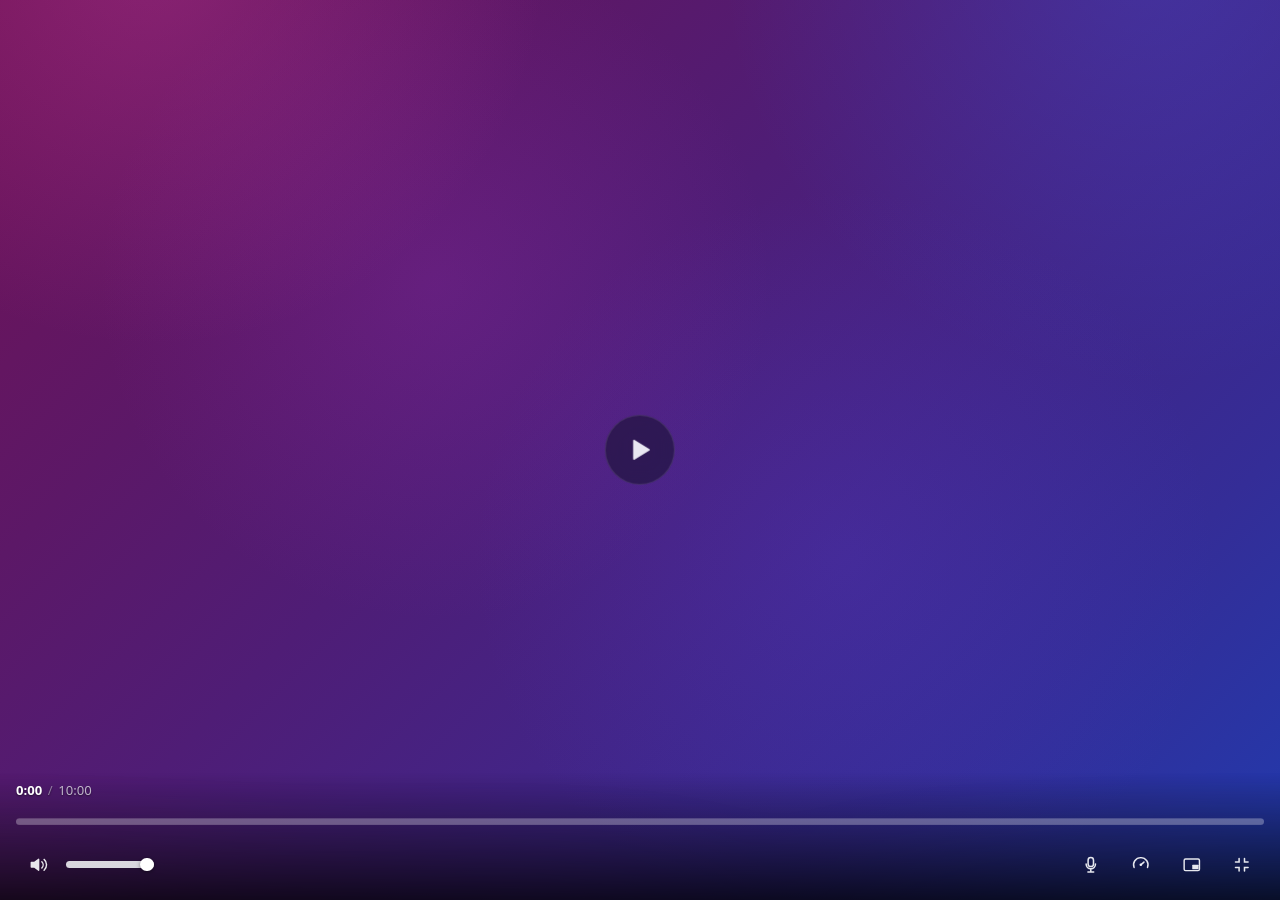
Test case: ElvernPlayerOverlay controls visibility › desktop track menus render long audio labels as separate rows
The width and height of the screenshot is (1280, 900).
Click the button named "Audio track". click: (1091, 864)
box: [1069, 842, 1113, 886]
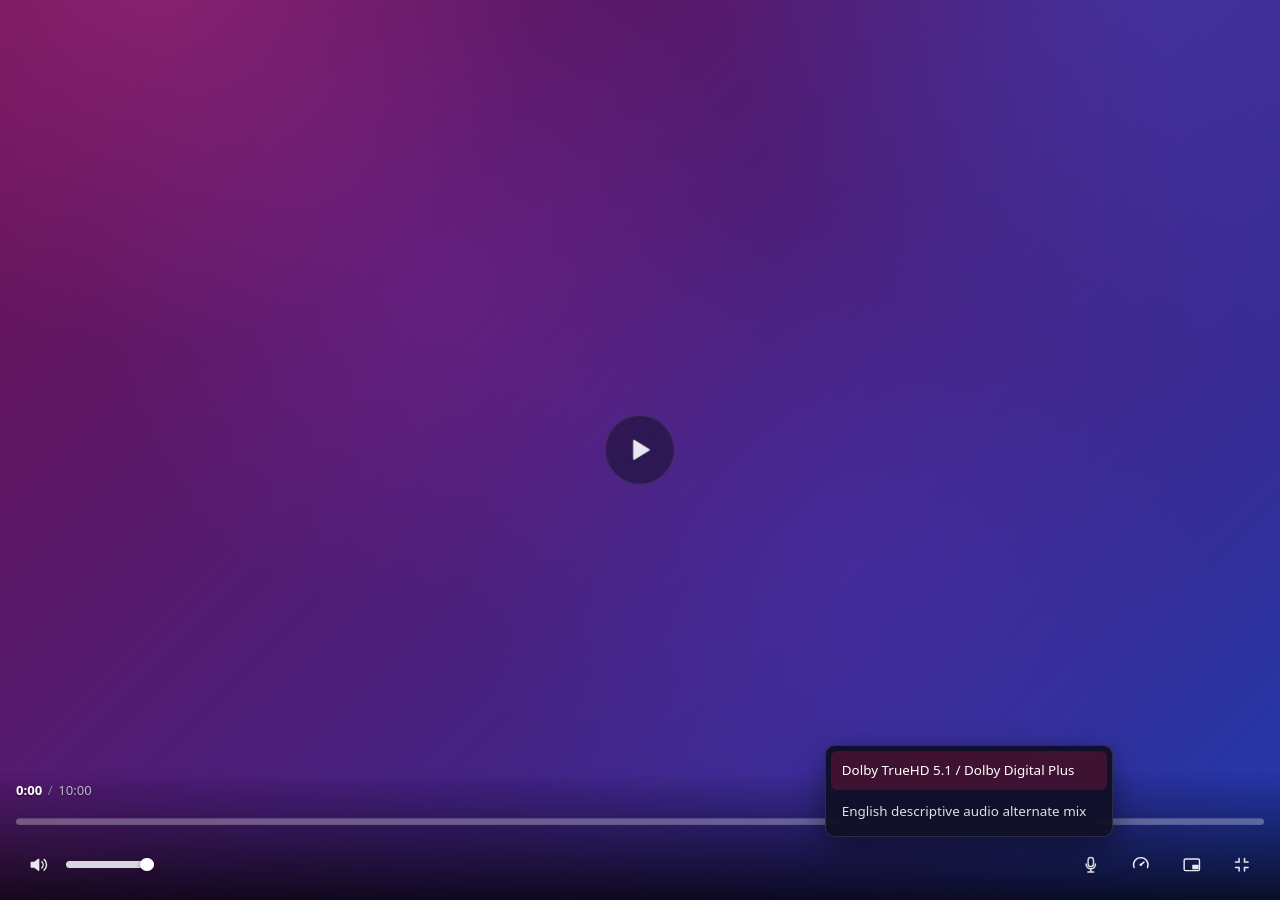
expect the menu is shown: met, box [825, 745, 1113, 837]
expect the text "Dolby TrueHD 5.1 / Dolby Digital Plus" is shown: met, box [842, 762, 1096, 779]
expect the text "English descriptive audio alternate mix" is shown: met, box [842, 803, 1096, 820]
